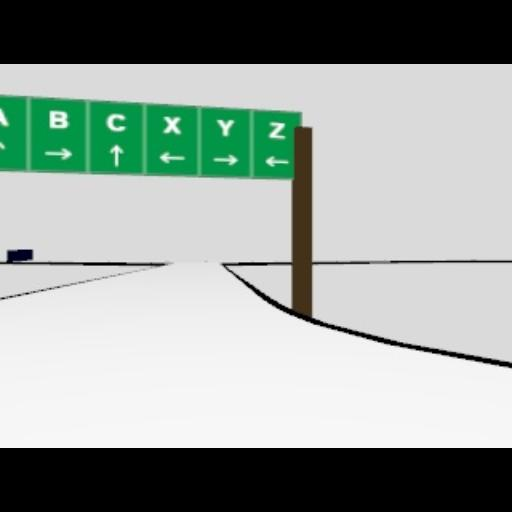A: (0, 106, 8, 124)
B: (48, 108, 68, 128)
C: (106, 112, 126, 132)
Left: (158, 150, 186, 164), (264, 156, 290, 166)
Right: (44, 148, 72, 160), (213, 154, 239, 166)
Straight: (109, 143, 123, 165)
X: (162, 115, 180, 133)
Y: (216, 118, 236, 136)
Z: (267, 120, 285, 138)
